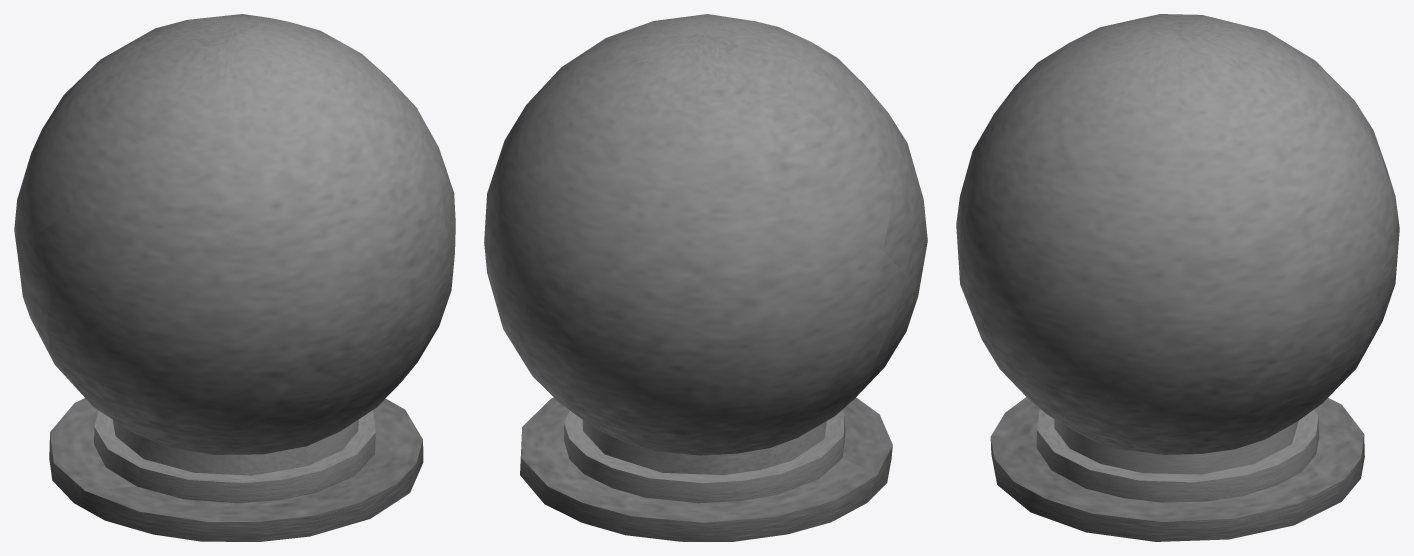
Rendered from Stone block.fbx.
3 views of the same model, side by side, from view 1: azimuth 30°, elevation 25°; view 2: azimuth 150°, elevation 25°; view 3: azimuth 270°, elevation 25° (orthographic).
Parts seen in each view (by area): view 1: Sphere; view 2: Sphere; view 3: Sphere.
Part boxes in pixels (x1,y1,x2,y2): Sphere: (14, 14, 455, 541); Sphere: (484, 14, 927, 541); Sphere: (956, 14, 1399, 541).
Size of the model in its own units: 1.4 by 1.49 by 1.4.
